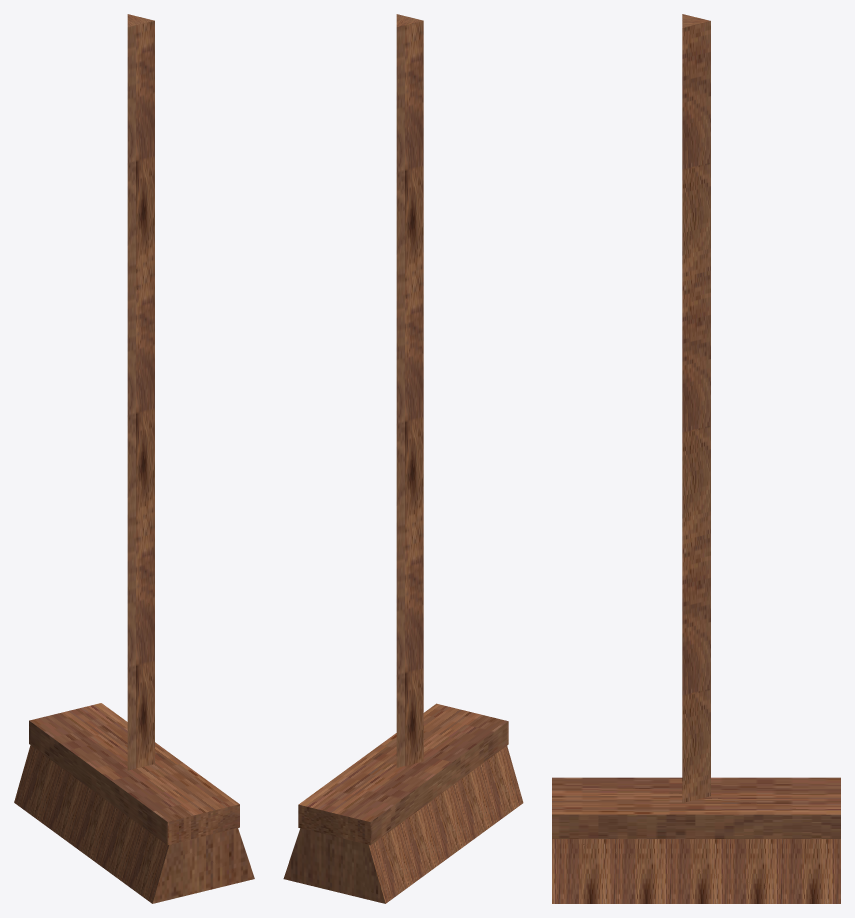
The model's file is mop.fbx.
The picture shows the model from 3 angles, left to right: view 1: azimuth 30°, elevation 25°; view 2: azimuth 150°, elevation 25°; view 3: azimuth 270°, elevation 25°; orthographic projection. The views are drawn at different scales.
Parts seen in each view (by area): view 1: PSXBroom; view 2: PSXBroom; view 3: PSXBroom.
Boxes of the visible parts, x1,y1,x2,y2 form: PSXBroom: (14,14,254,903); PSXBroom: (283,14,523,903); PSXBroom: (552,14,840,903).
Bounding box in the file's own units: 85.51 × 655 × 200.
Materials: 3 (3 with a texture image).
